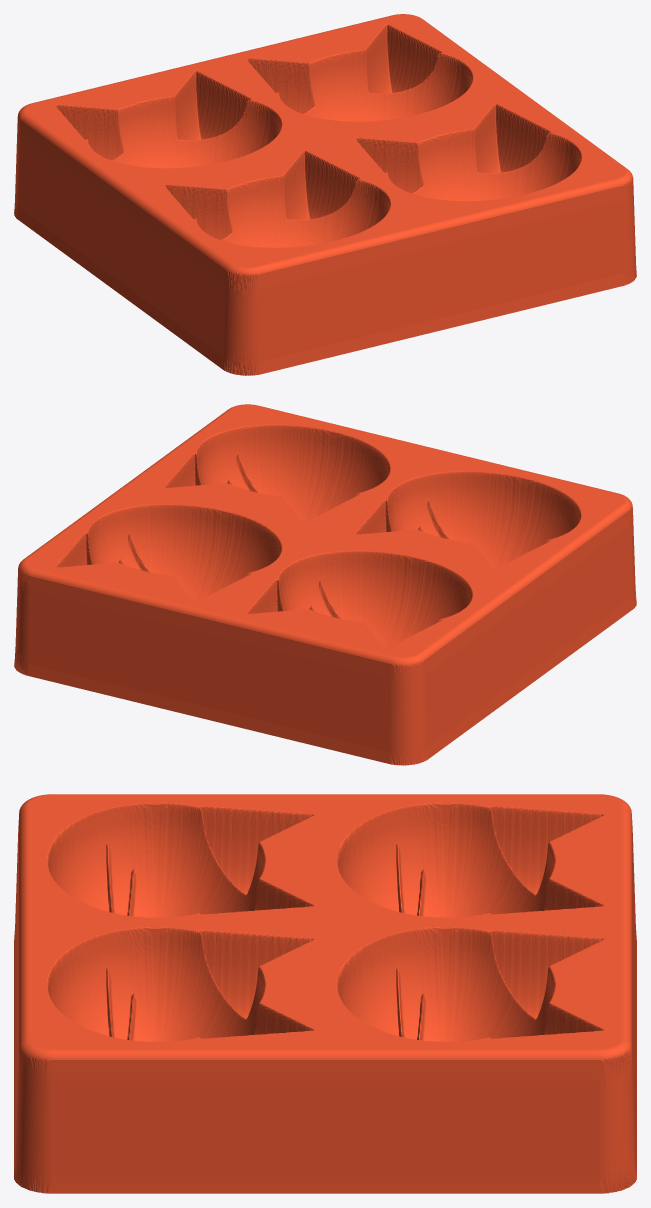
The model's file is mold.glb.
3 renders of one model, top to bottom at view 1: azimuth 30°, elevation 25°; view 2: azimuth 150°, elevation 25°; view 3: azimuth 270°, elevation 25°, orthographic. The views are drawn at different scales.
Parts seen in each view (by area): view 1: geometry_0; view 2: geometry_0; view 3: geometry_0.
Boxes of the visible parts, x1,y1,x2,y2 form: geometry_0: (14,14,636,375); geometry_0: (14,404,636,765); geometry_0: (14,794,636,1193).
Bounding box in the file's own units: 0.1493 × 0.036 × 0.1472.
